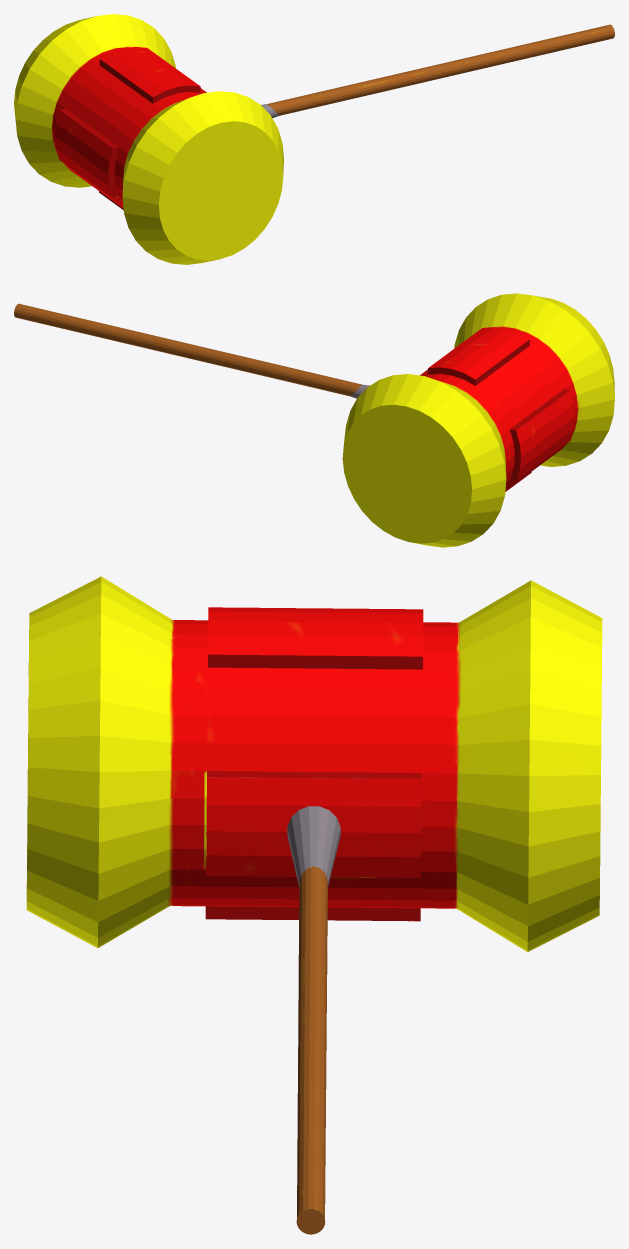
Rendered from picopico30.glb.
3 renders of one model, top to bottom at view 1: azimuth 30°, elevation 25°; view 2: azimuth 150°, elevation 25°; view 3: azimuth 270°, elevation 25°, orthographic. The views are drawn at different scales.
Parts seen in each view (by area): view 1: Cylinder; view 2: Cylinder; view 3: Cylinder.
Part boxes in pixels (x1,y1,x2,y2): Cylinder: [14, 14, 614, 264]; Cylinder: [14, 293, 614, 547]; Cylinder: [26, 576, 602, 1234].
Size of the model in its own units: 8.73 by 2.63 by 4.02.
1 material, 1 textured.
